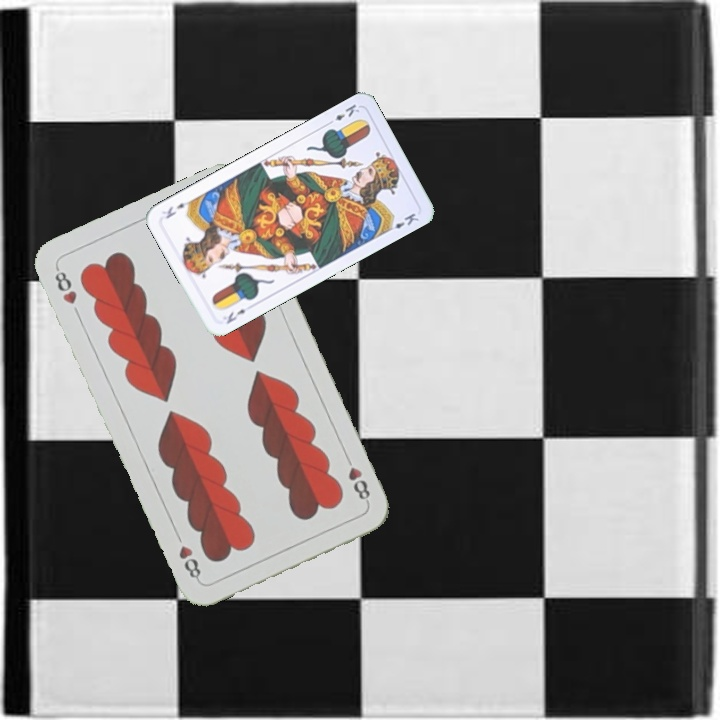EK: (323, 100, 362, 128), (222, 305, 248, 327)
H8: (340, 450, 373, 506), (50, 263, 80, 307)
